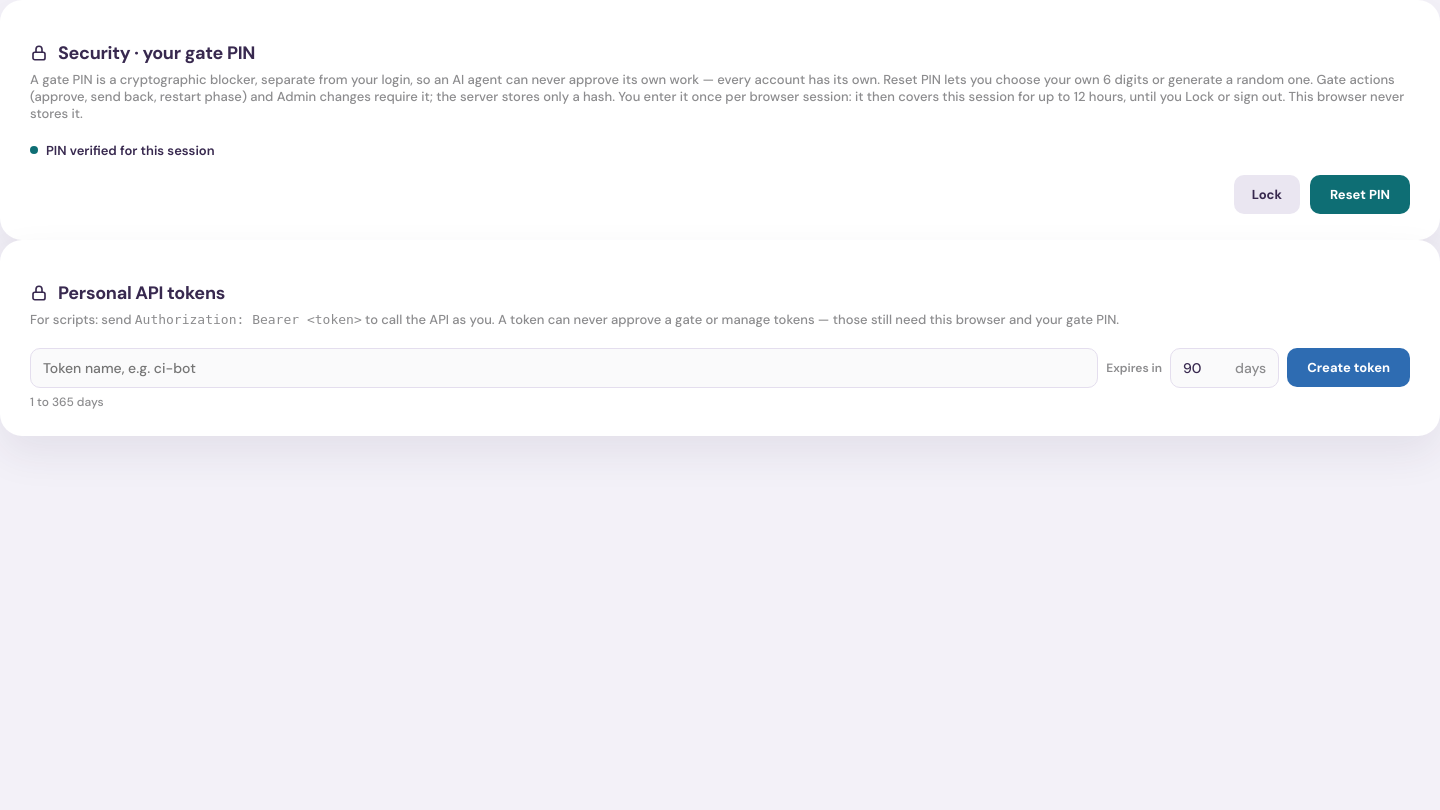
Test: a generated PIN is shown once with Copy, then gone after closing with the scrim; manual fields reopen empty
Click the button "Reset PIN" at (1360, 194), box [1310,175,1410,214]
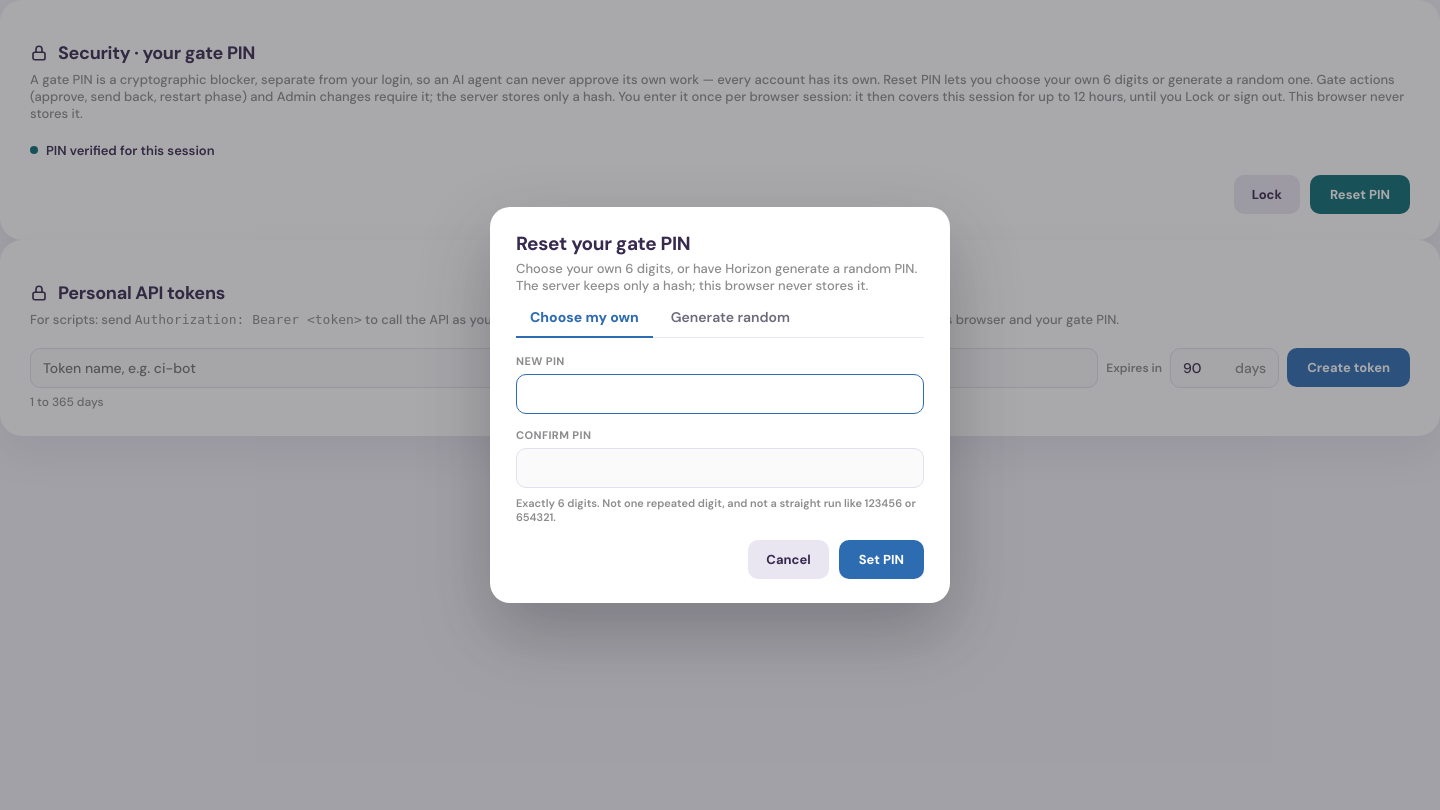
Type "12" into the password field labelled "New PIN" at (720, 394), box [516,374,924,414]
Click the tab "Generate random" at (730, 318), box [657,298,804,338]
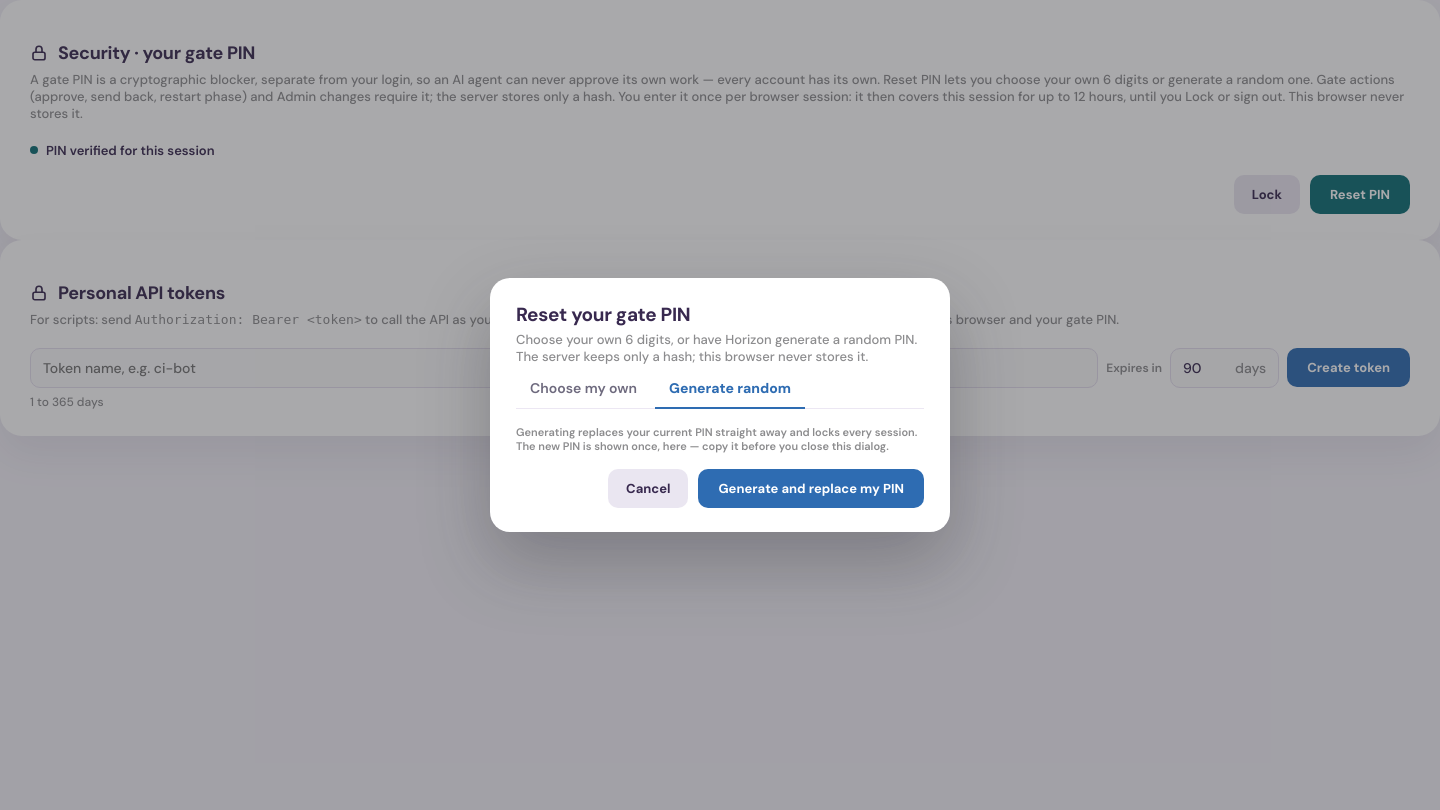
Result: the text "replaces your current PIN straight away" is shown at [516,425,917,453]
Click the button "Generate and replace my PIN" at (811, 488), box [698,469,924,508]
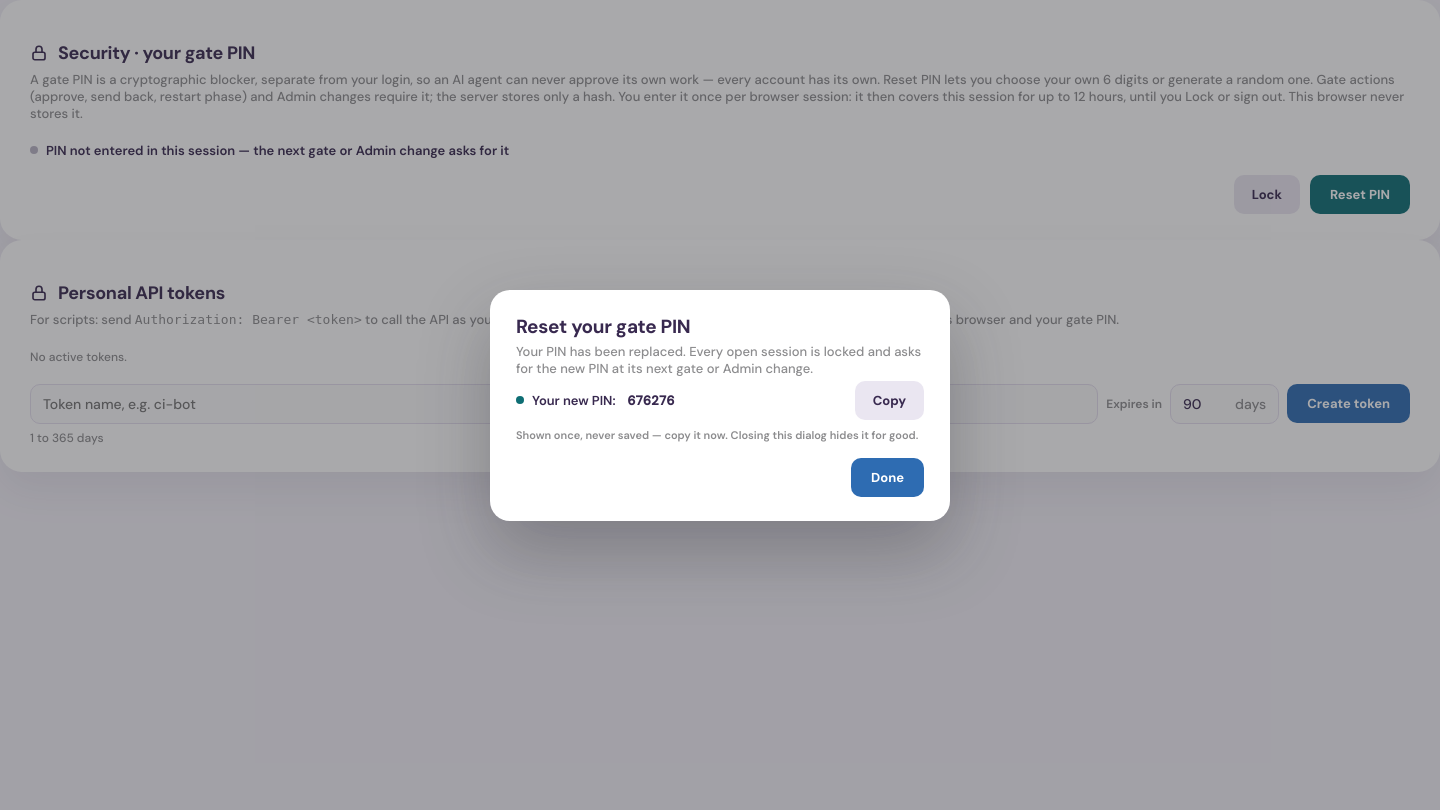
Result: the text "Shown once, never saved" is shown at [516,428,918,442]
Result: the text "Every open session is locked" is shown at [516,342,921,376]
Click the button "Copy" at (889, 400), box [855,380,924,420]
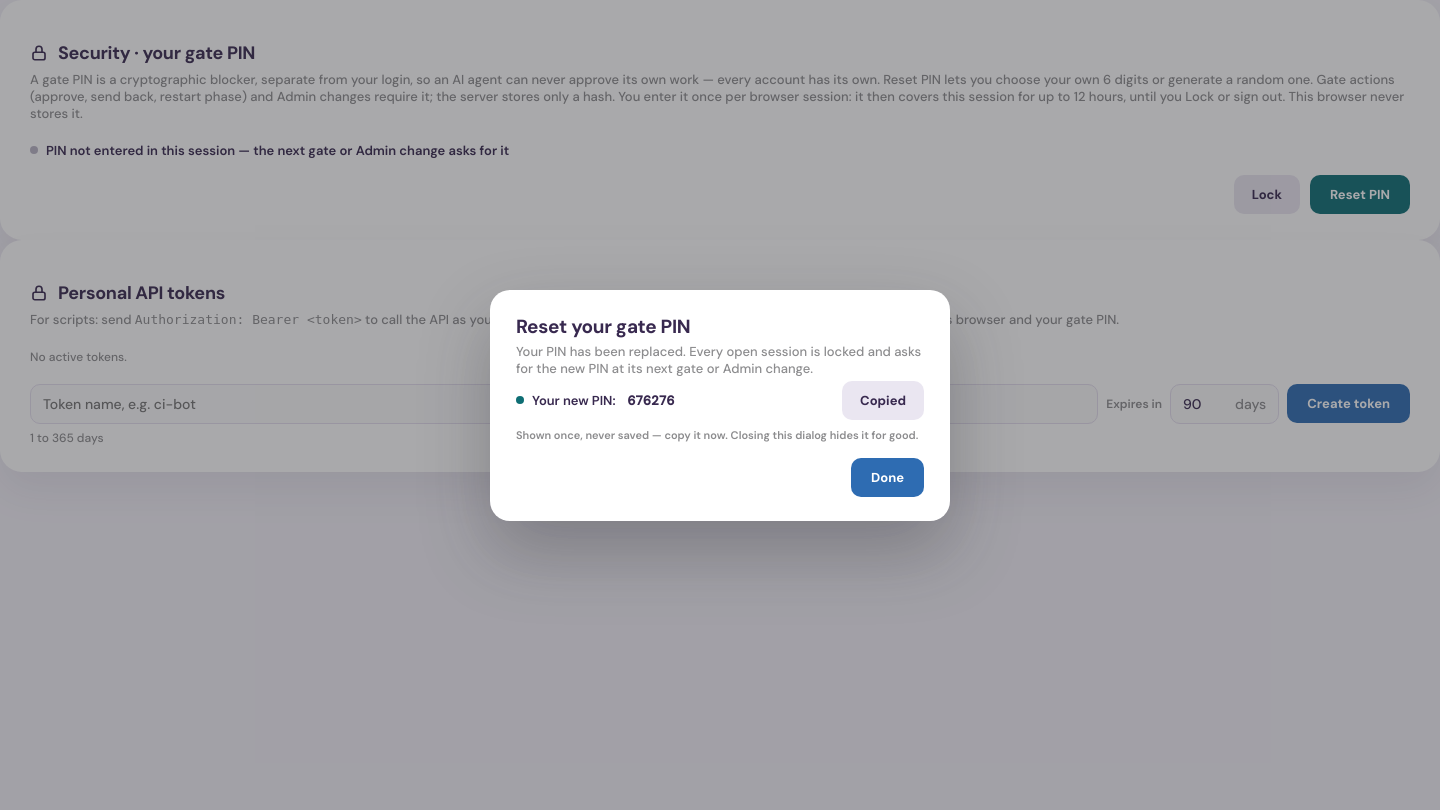
Click the element with test id "reset-pin-scrim" at (86, 405), box [0,0,1439,809]
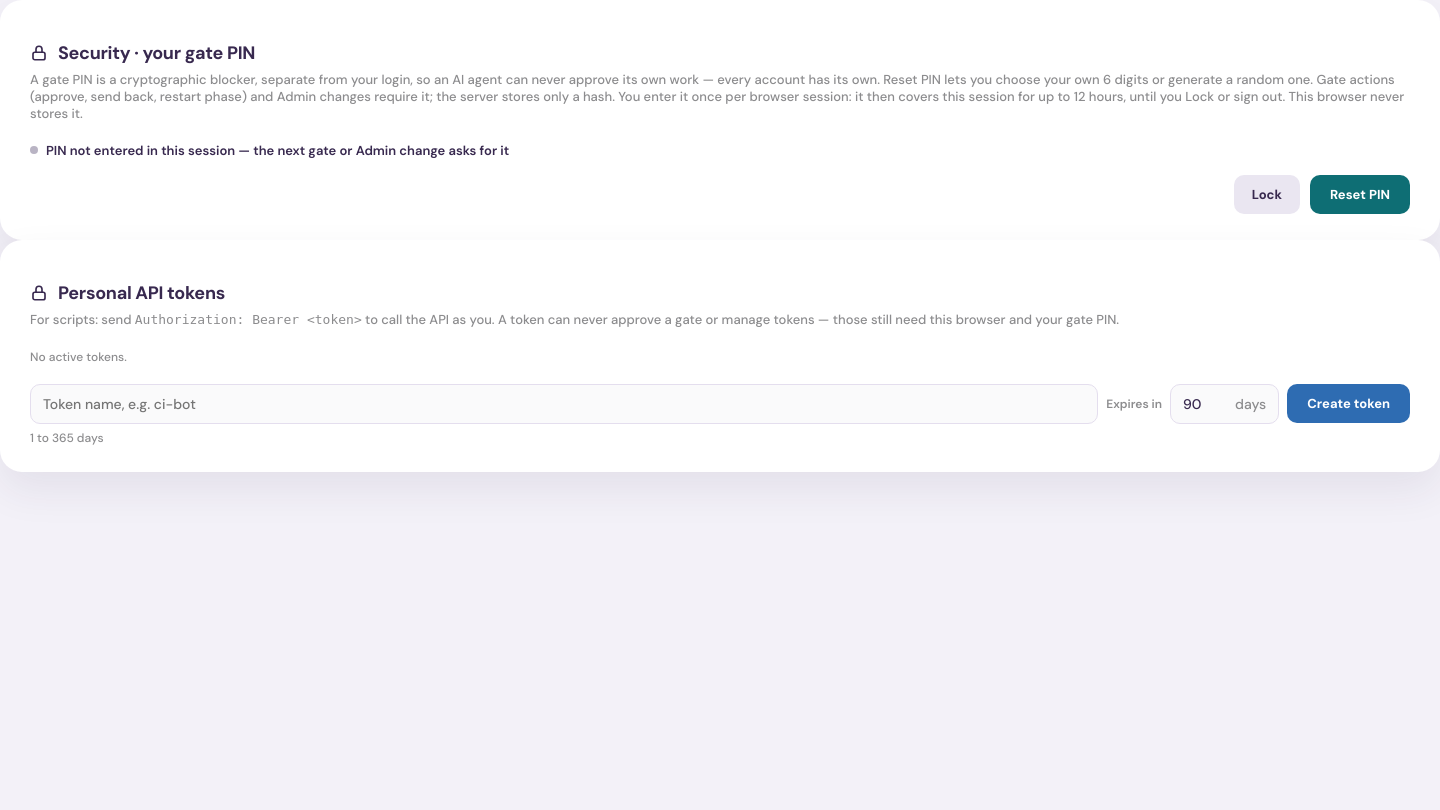
Result: the dialog is gone
Click the button "Reset PIN" at (1360, 194), box [1310,175,1410,214]
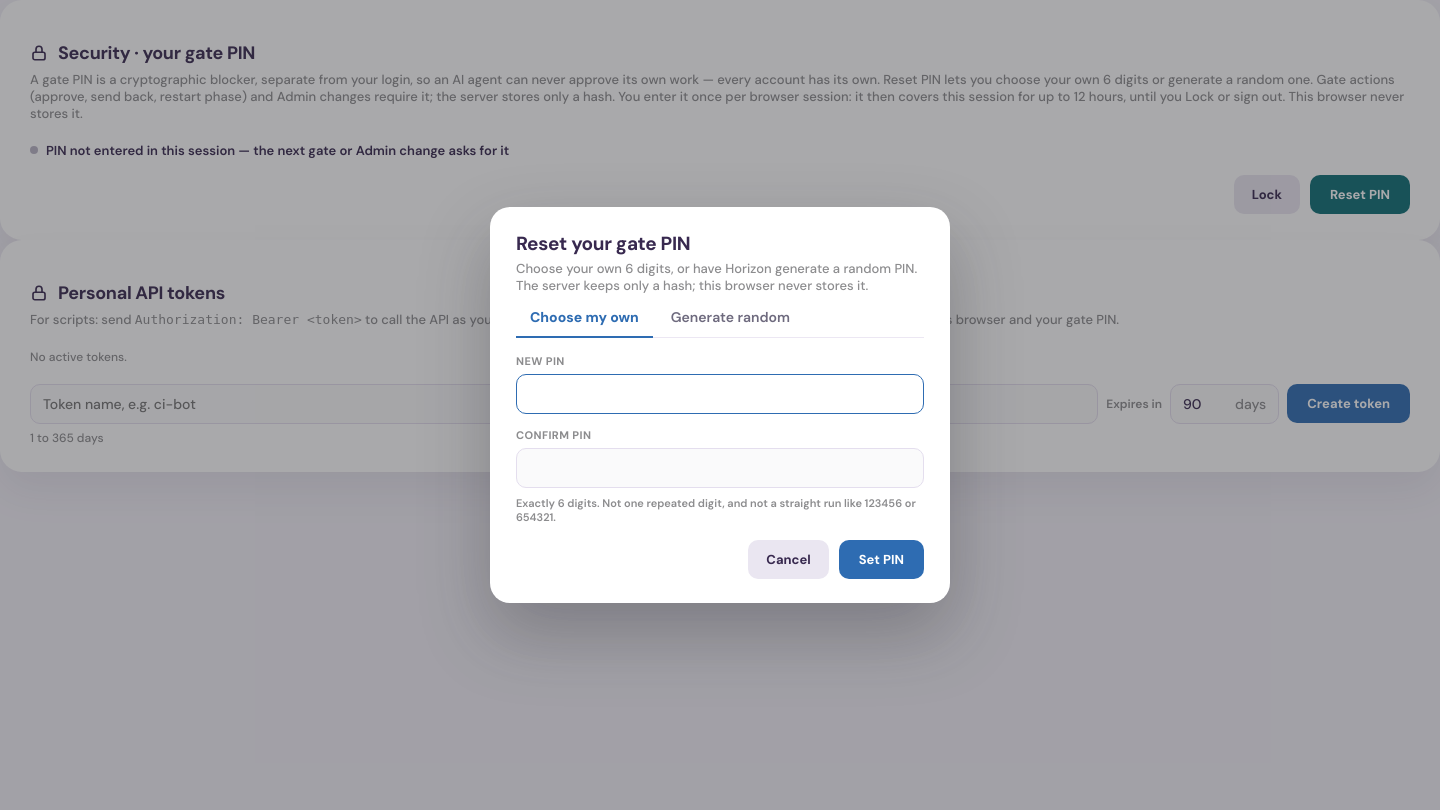
Expected: the password field labelled "Confirm PIN" is empty, [516,448,924,488]
Result: the password field labelled "New PIN" is empty at [516,374,924,414]
